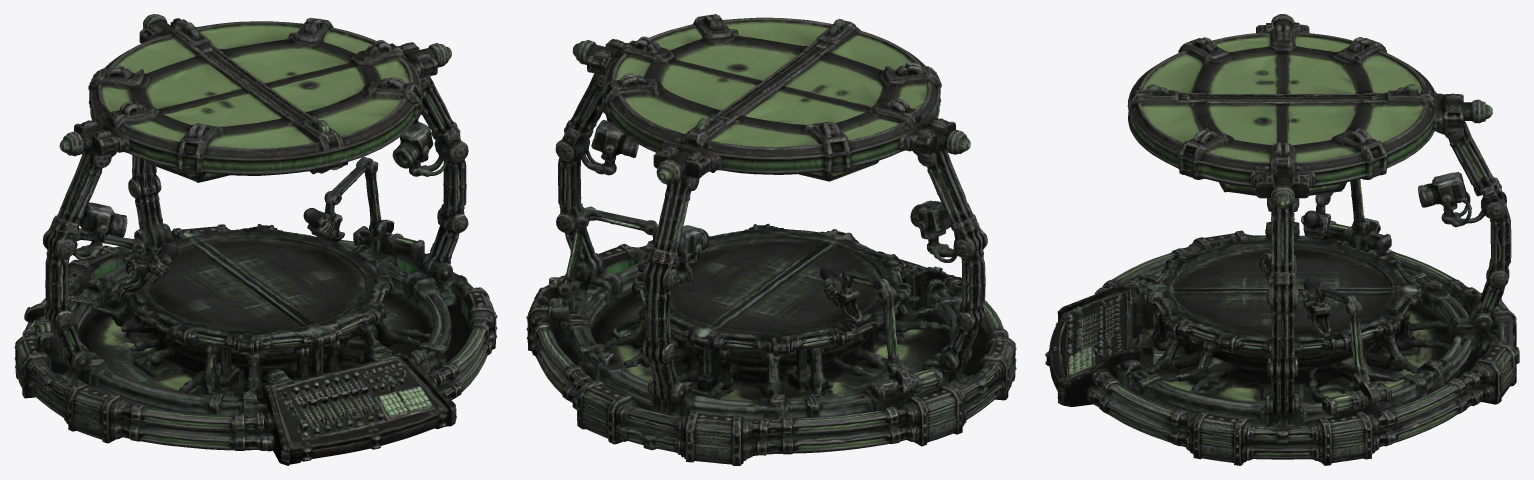
File: futuristic_control_ring_web.glb
The picture shows the model from 3 angles, left to right: view 1: azimuth 30°, elevation 25°; view 2: azimuth 150°, elevation 25°; view 3: azimuth 270°, elevation 25°; orthographic projection. The views are drawn at different scales.
Visible parts, largest first — view 1: tripo_node_2ce27bb7-53a7-4f3d-803d-ba4bdb8602ac; view 2: tripo_node_2ce27bb7-53a7-4f3d-803d-ba4bdb8602ac; view 3: tripo_node_2ce27bb7-53a7-4f3d-803d-ba4bdb8602ac.
Boxes of the visible parts, x1,y1,x2,y2 form: tripo_node_2ce27bb7-53a7-4f3d-803d-ba4bdb8602ac: (14,14,497,465); tripo_node_2ce27bb7-53a7-4f3d-803d-ba4bdb8602ac: (526,14,1016,465); tripo_node_2ce27bb7-53a7-4f3d-803d-ba4bdb8602ac: (1045,14,1519,465).
Bounding box in the file's own units: 0.9785 × 0.646 × 0.9815.
1 material, 1 textured.
